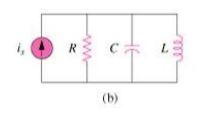inductor: (169, 28, 185, 68)
